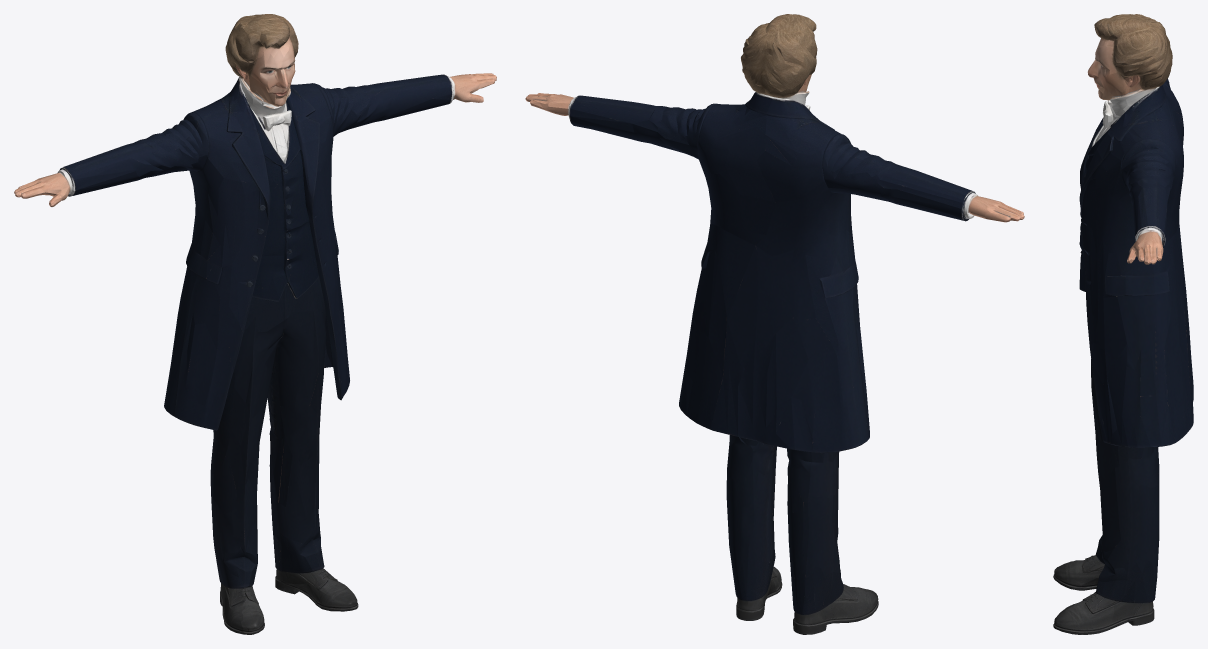
File: joseph-smith-remeshed.glb
3 renders of one model, left to right at view 1: azimuth 30°, elevation 25°; view 2: azimuth 150°, elevation 25°; view 3: azimuth 270°, elevation 25°, orthographic. The views are drawn at different scales.
Parts seen in each view (by area): view 1: output_unwrapped; view 2: output_unwrapped; view 3: output_unwrapped.
Boxes of the visible parts, x1,y1,x2,y2 form: output_unwrapped: [14, 14, 496, 634]; output_unwrapped: [525, 14, 1024, 634]; output_unwrapped: [1053, 14, 1193, 634].
Size of the model in its own units: 1.65 by 1.9 by 0.4133.
Materials: 1 (1 with a texture image).
